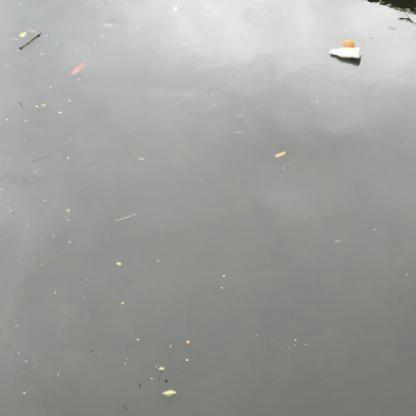Trash: (328, 38, 364, 64)
